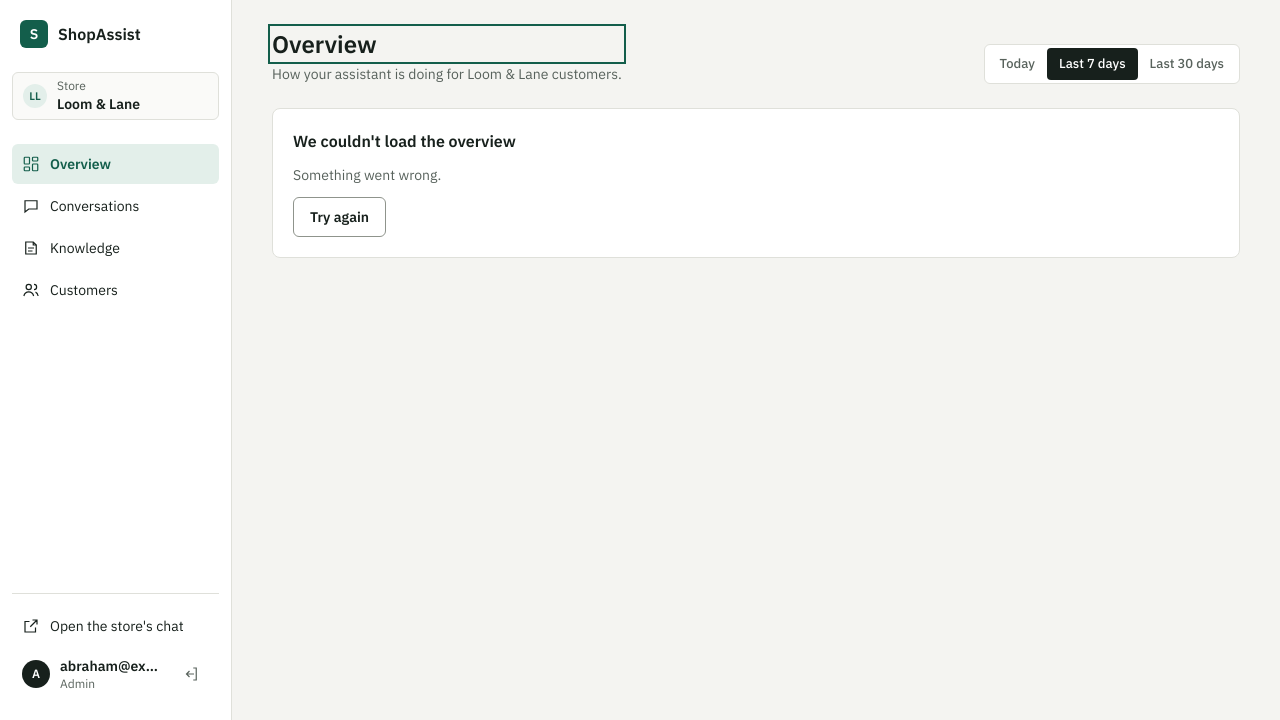
Test case: the page › an error offers to try again
This screenshot has width=1280, height=720.
Expected: the message shows "We couldn't load the overview", 293,131 -> 516,151
Click the button "Try again" at [340, 217], box 293,197 -> 386,237
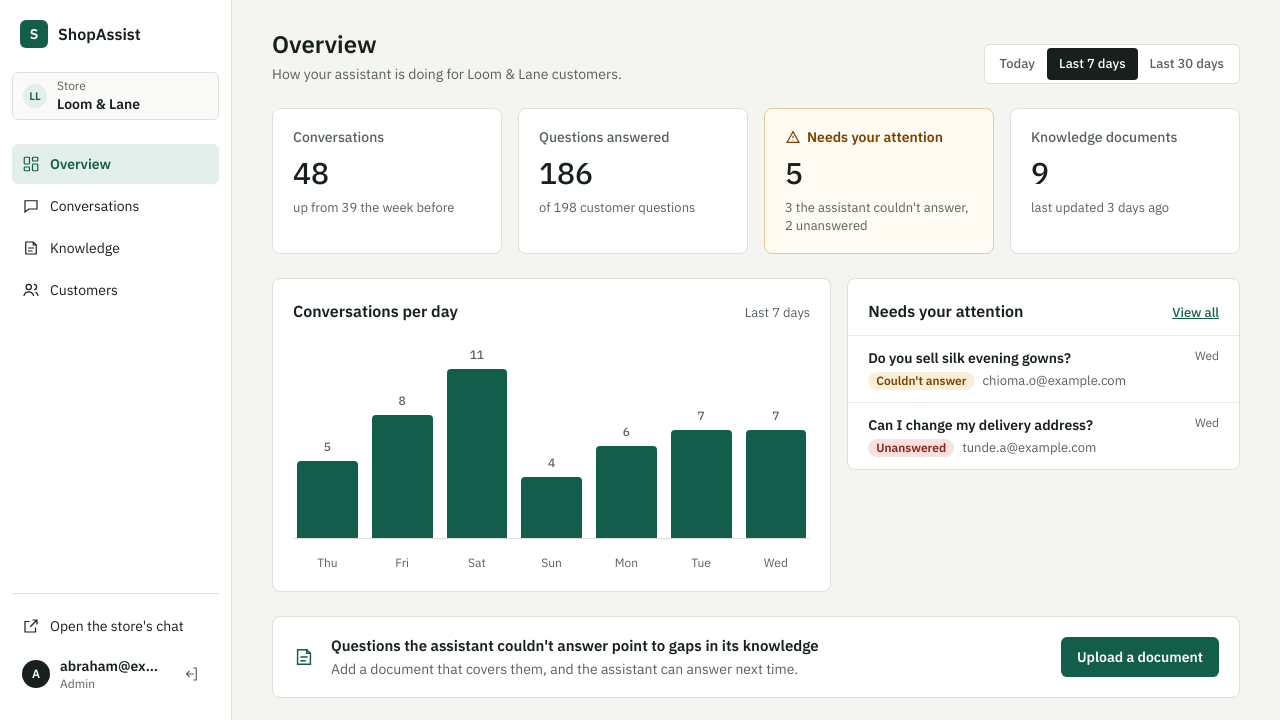
Result: the element named "Key numbers" is shown at 272,108 -> 1240,254
